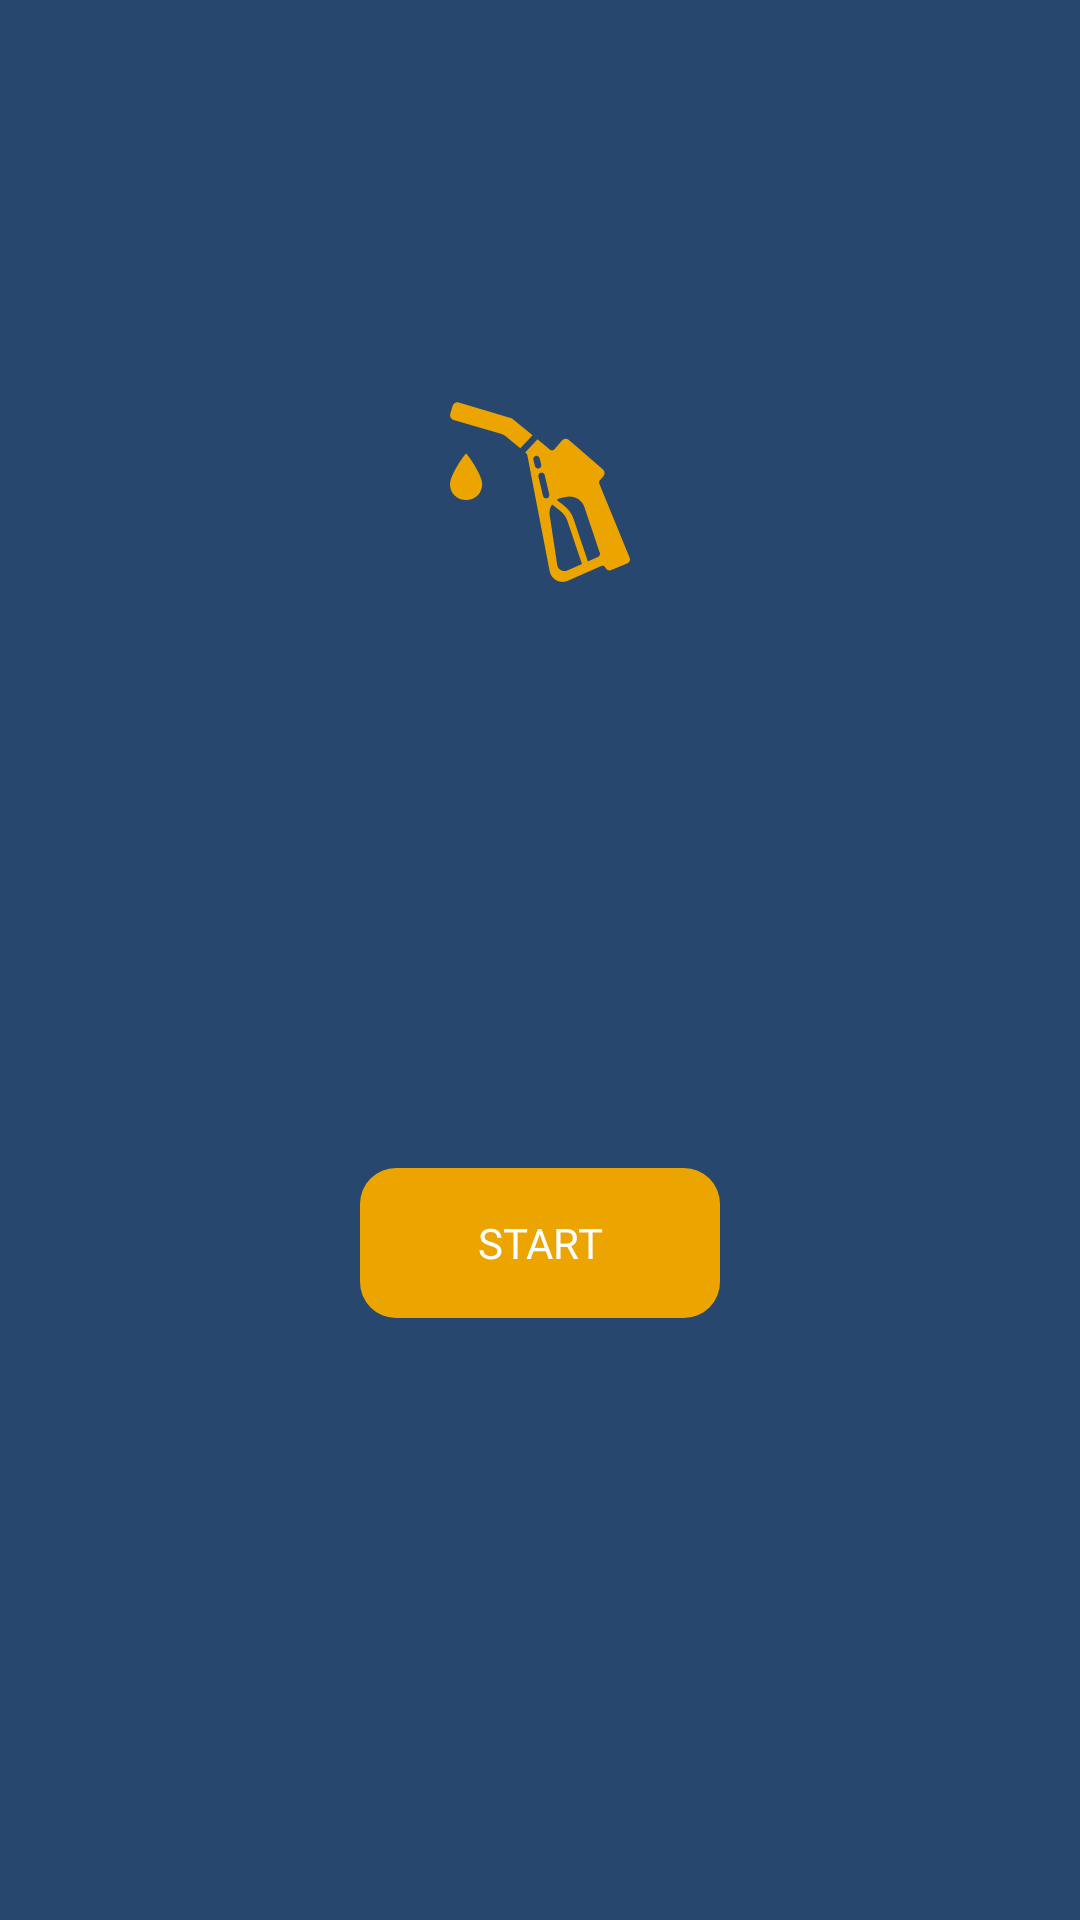

Locate icon controls on the screen. Image size 1080 × 1920, boxes as (x1, y1, x2, y2).
fuel: (450, 402, 630, 582)
